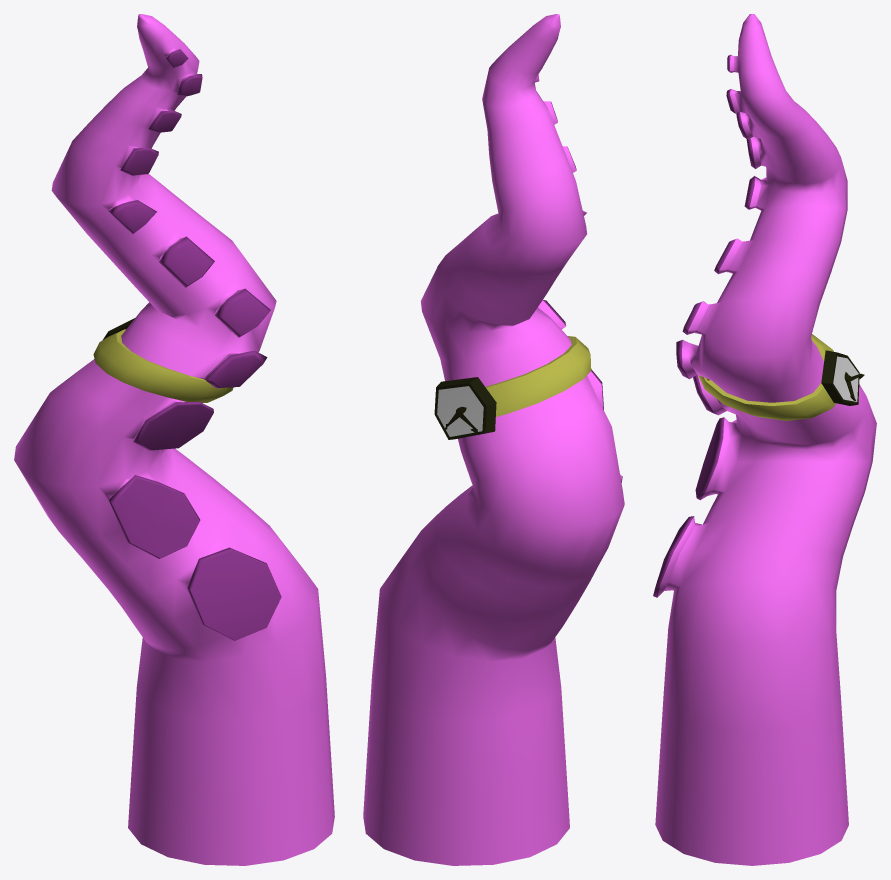
File: Tenticle_DMG.fbx
The picture shows the model from 3 angles, left to right: view 1: azimuth 30°, elevation 25°; view 2: azimuth 150°, elevation 25°; view 3: azimuth 270°, elevation 25°; orthographic projection. The views are drawn at different scales.
Parts seen in each view (by area): view 1: tenticle; view 2: tenticle; view 3: tenticle.
Boxes of the visible parts, box(x1,y1,x2,y2) form: tenticle: box(14, 14, 334, 865); tenticle: box(363, 14, 624, 865); tenticle: box(653, 14, 876, 865).
Size of the model in its own units: 2.67 by 7.88 by 2.08.
